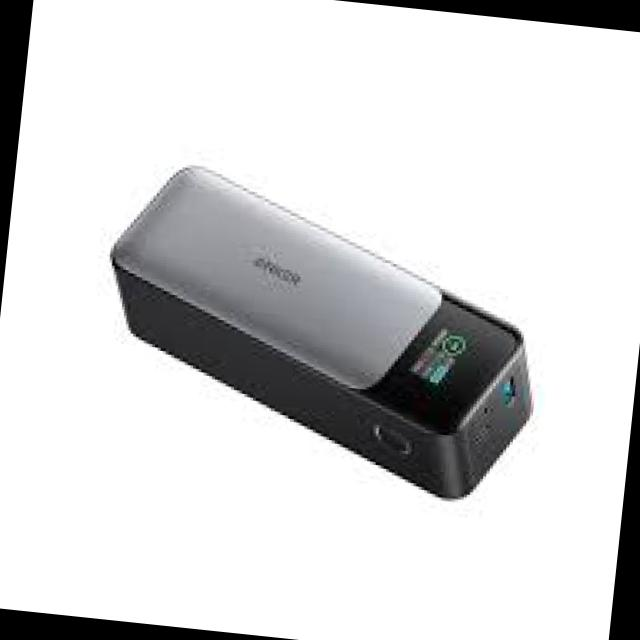power_bank: (88, 153, 555, 512)
